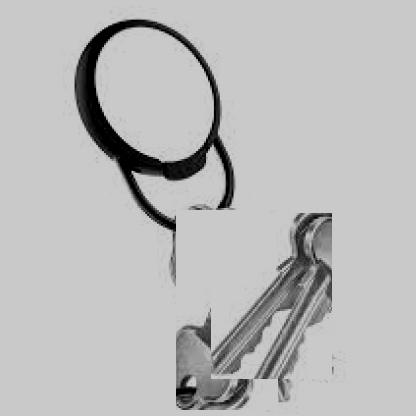key: (176, 210, 278, 410), (211, 213, 332, 380)
